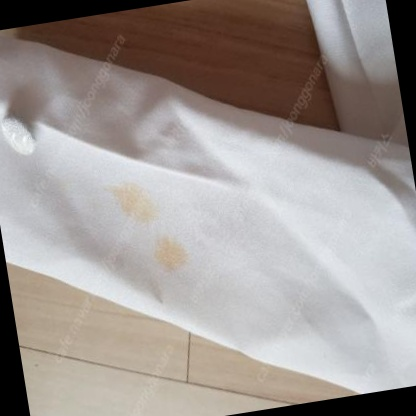kimchi: (104, 175, 156, 233), (153, 238, 189, 280)
